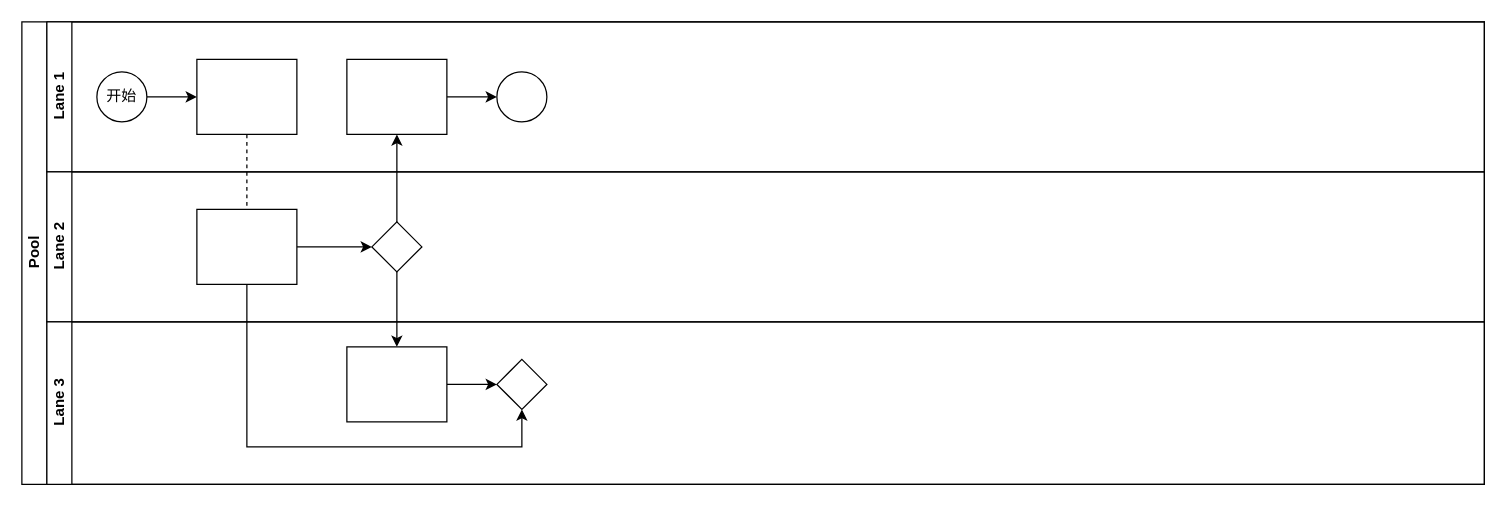
This 1506x506 diagram has some shape labels left out. Here are the shapes that lost their labels. From the top down, the centre of each, then its label:
point 246,96: 流程1
point 246,246: 流程2
